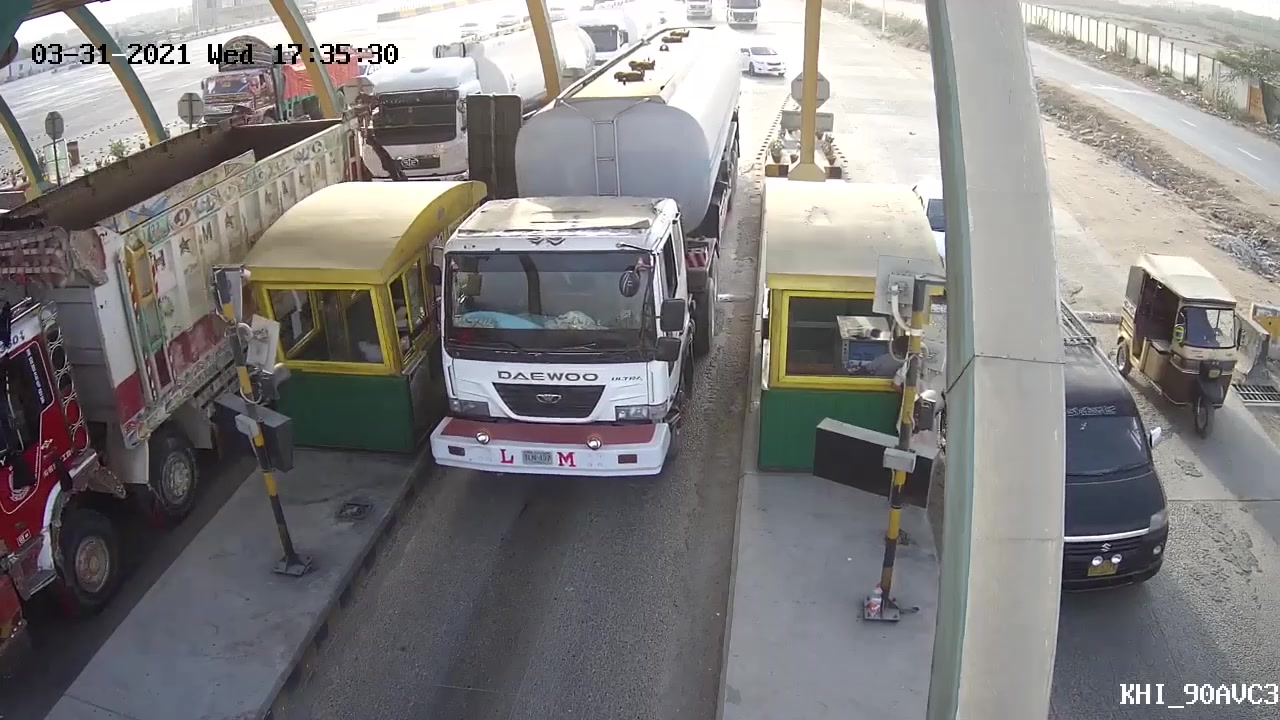F5: (429, 96, 718, 530)
